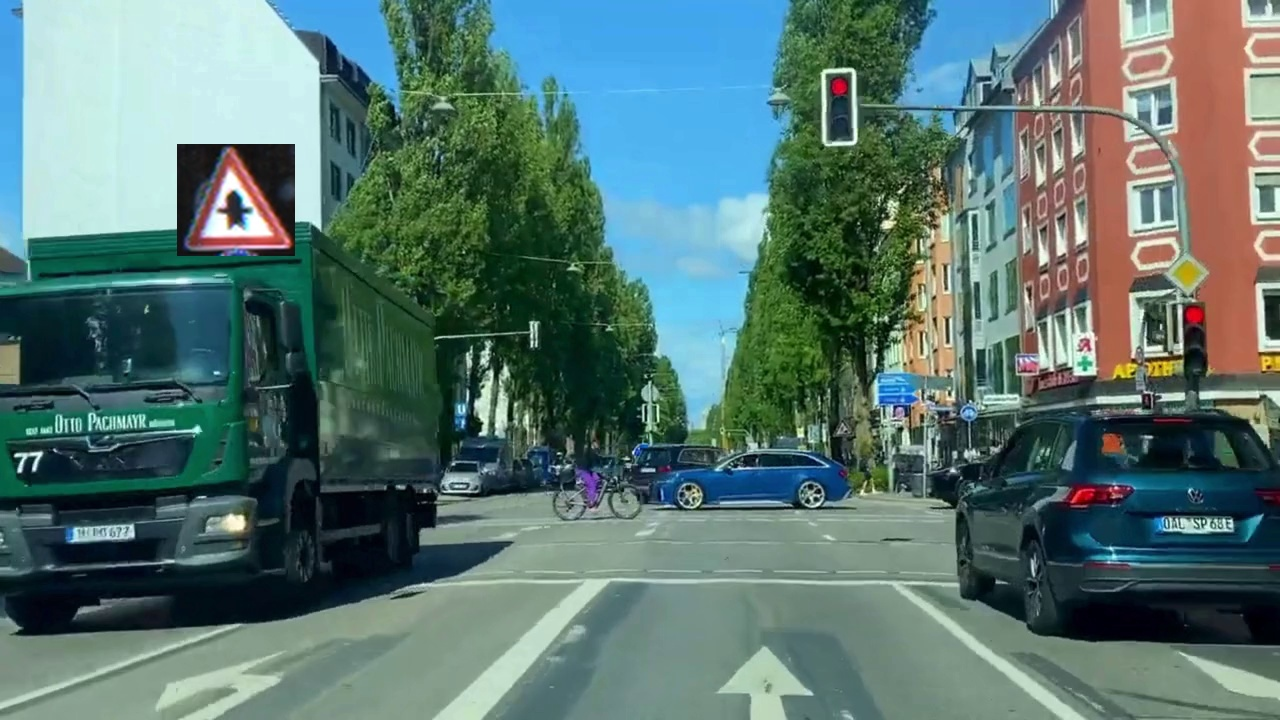Right-of-way: (177, 144, 295, 256)
